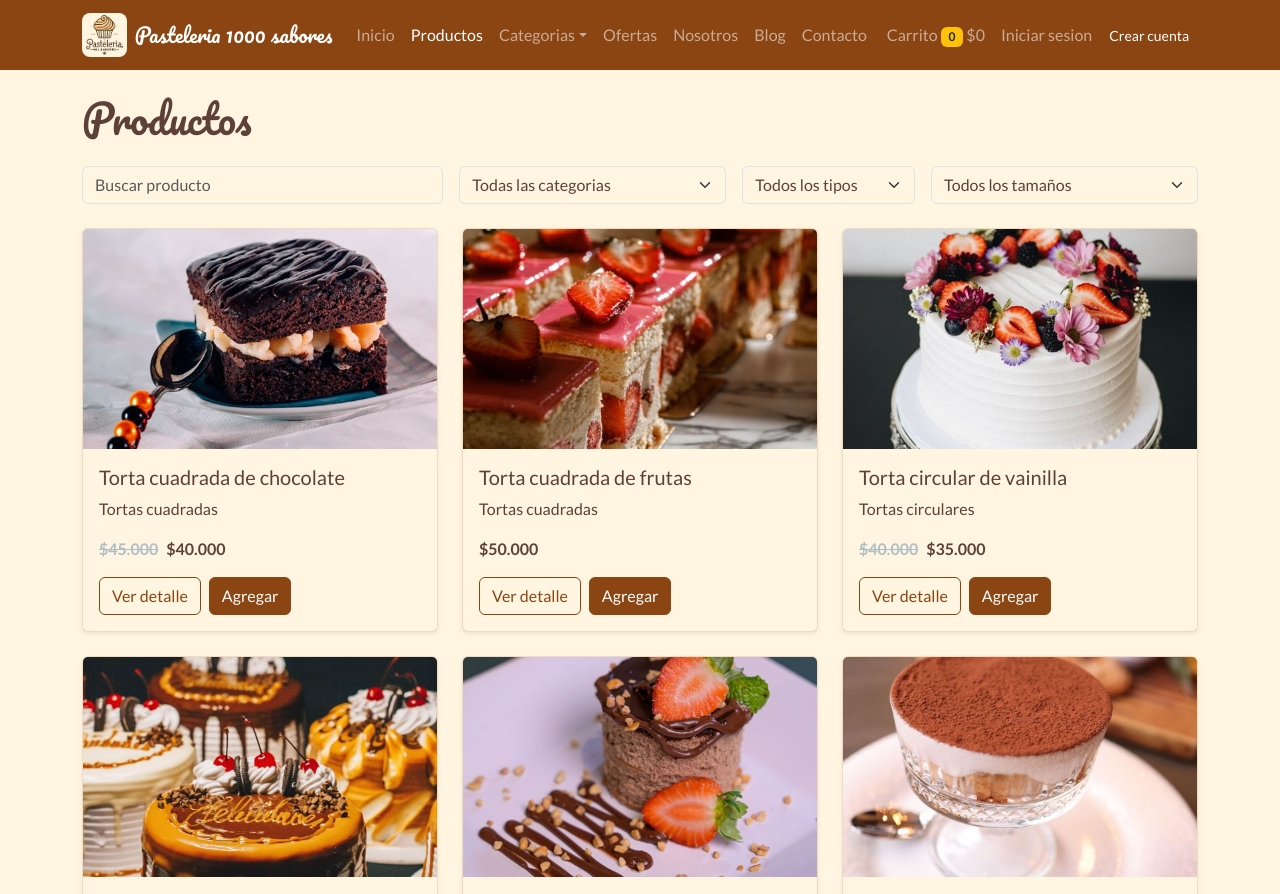
it: Catalogo, filtros y personalizacion › filtrar por tipo Circular oculta las tortas cuadradas
Select "Circular" in the dropdown named "Filtrar por tipo de torta": (829, 185) [742,166,915,204]
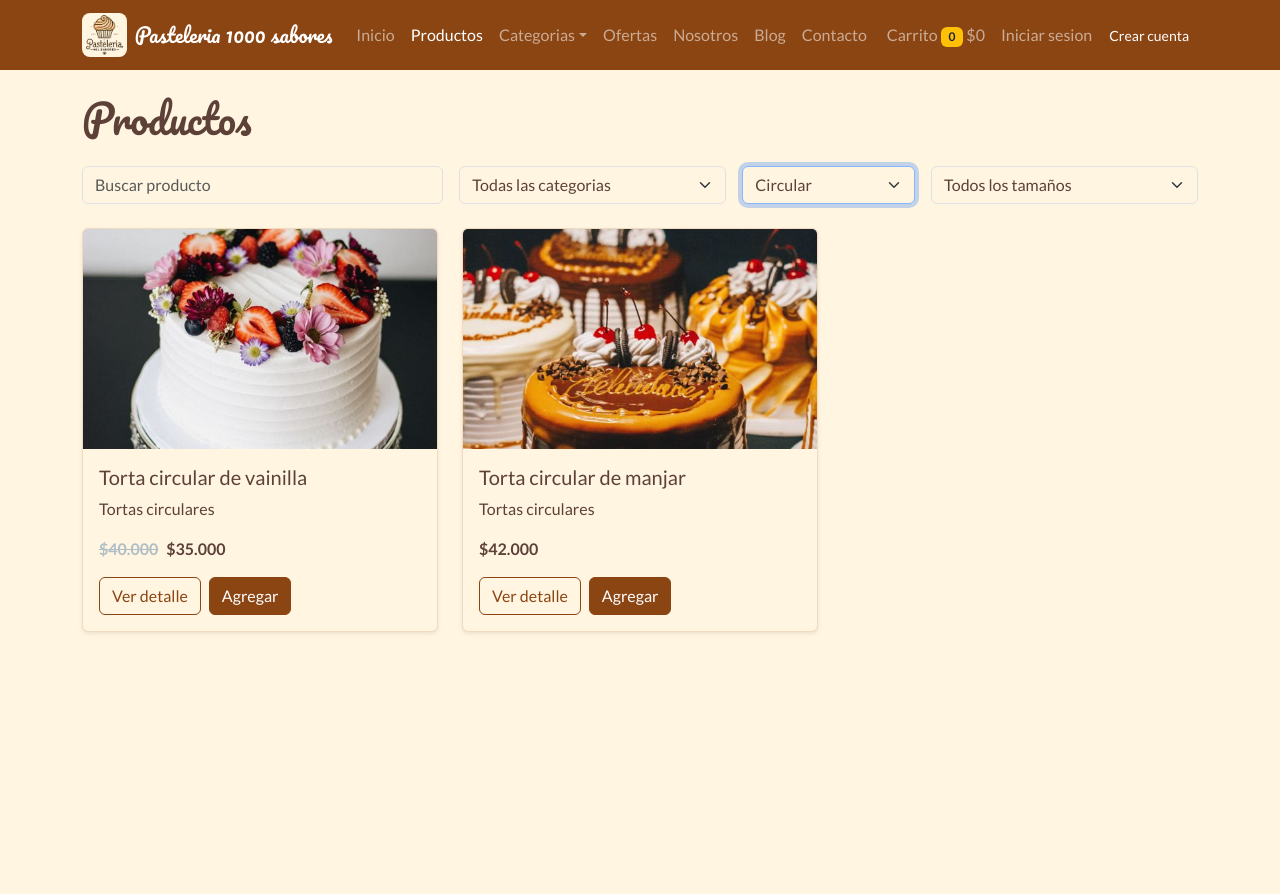
Expected: the text "Torta circular de manjar" is shown, [479,465,686,489]
Now the text "Torta cuadrada de frutas" is gone
